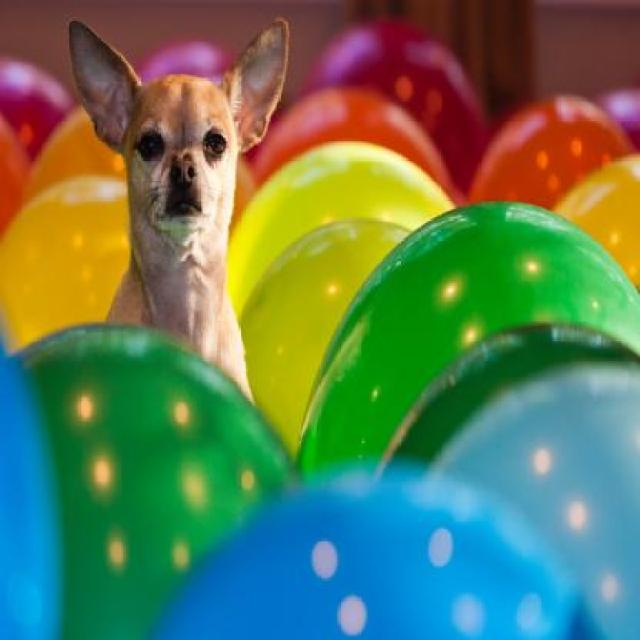balloon: (281, 186, 640, 487), (6, 301, 308, 639), (127, 462, 607, 640), (219, 134, 484, 332), (380, 318, 640, 493), (238, 214, 425, 440), (246, 69, 468, 238), (0, 170, 146, 373), (468, 86, 637, 245), (303, 23, 491, 154), (0, 323, 63, 639), (33, 97, 144, 209), (555, 147, 639, 276), (123, 30, 271, 99), (0, 48, 74, 177)
